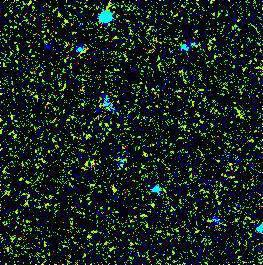star: (97, 174, 127, 204)
